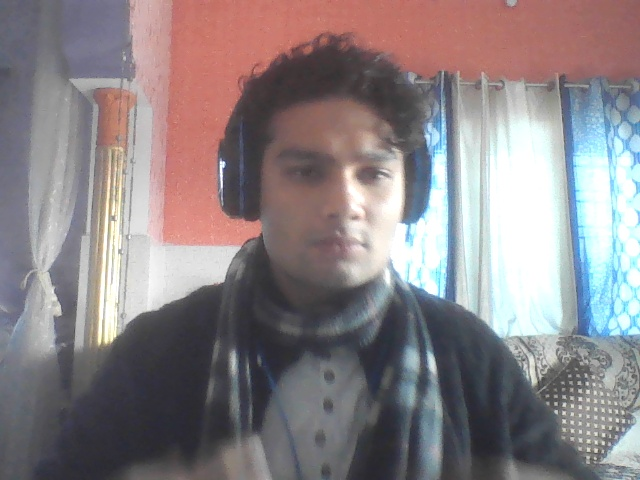real: (233, 38, 425, 310)
